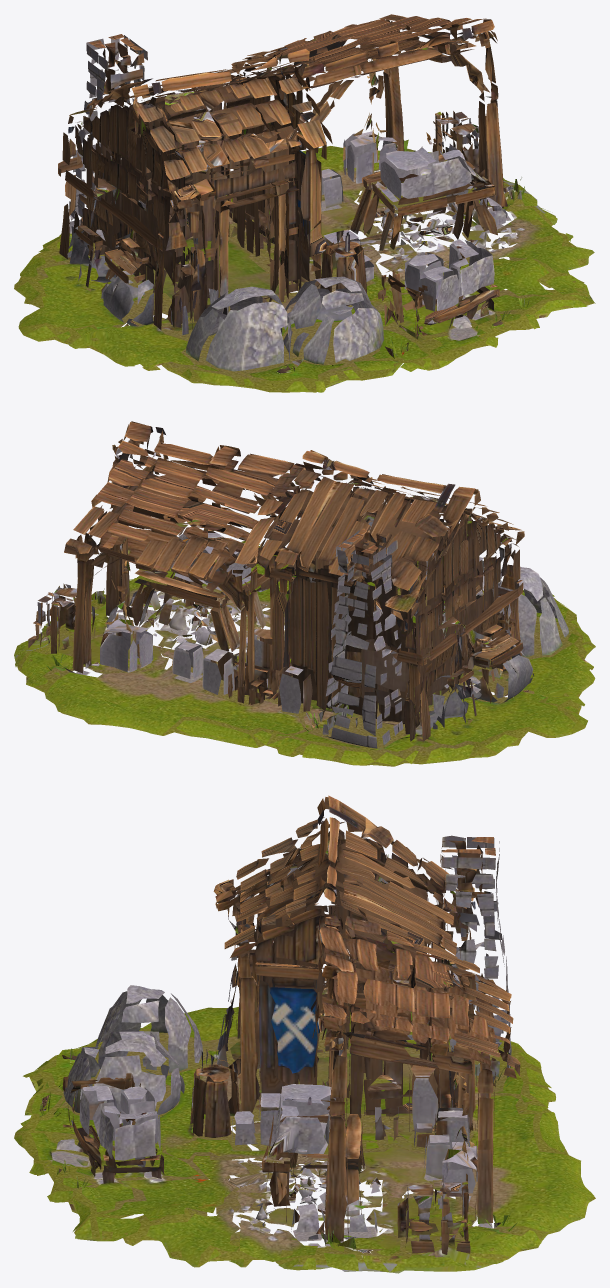
File: steinmetz.glb
The picture shows the model from 3 angles, top to bottom: view 1: azimuth 30°, elevation 25°; view 2: azimuth 150°, elevation 25°; view 3: azimuth 270°, elevation 25°; orthographic projection. The views are drawn at different scales.
Size of the model in its own units: 1.88 by 0.7631 by 1.6.
1 material, 1 textured.
